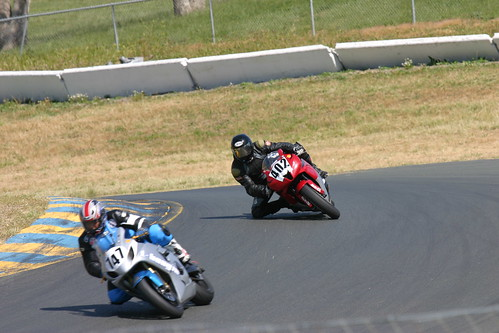helmet: (70, 192, 112, 237), (219, 127, 257, 163)
